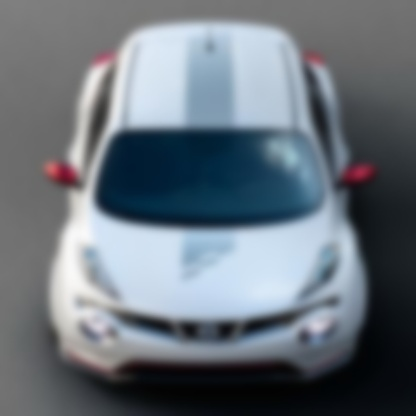Vehicle: (44, 23, 372, 382)
